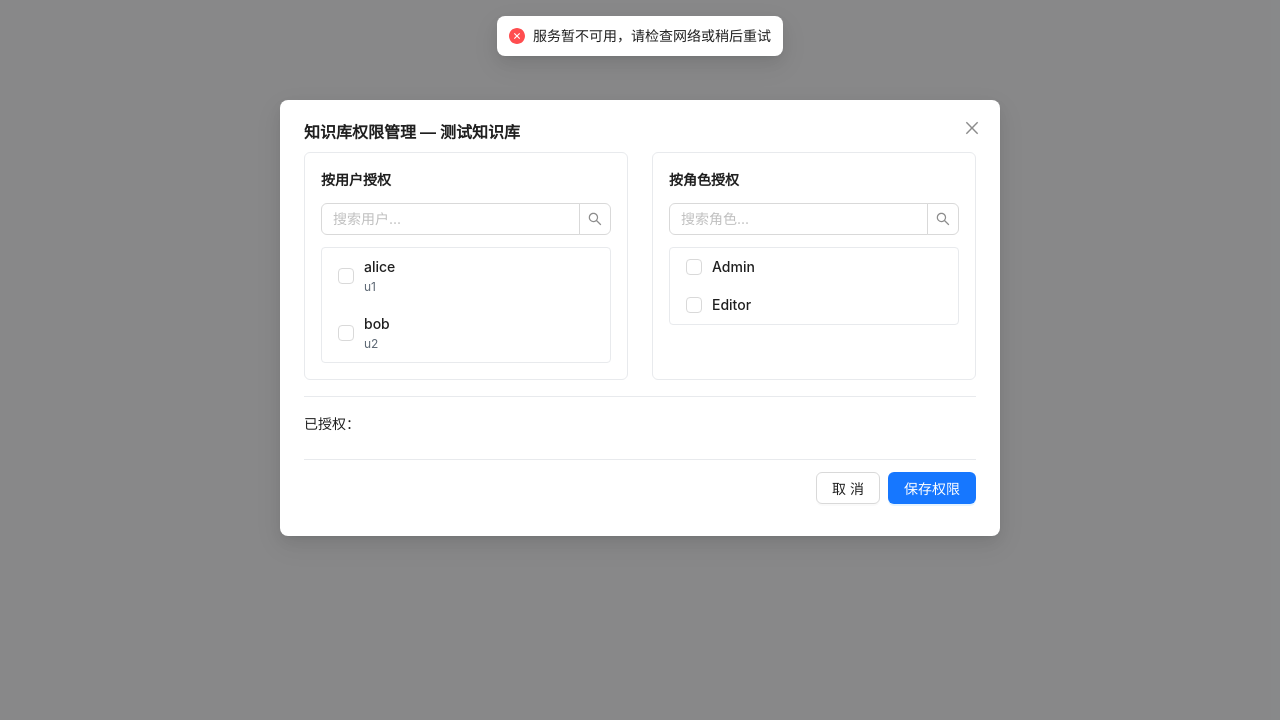
Test: KnowledgeBasePermissionModal › filters users by search keyword
Expected: the text "alice" is shown, [364,258,395,275]
Type "bob" into the search field with placeholder "搜索用户..." at [450, 219], box [321,203,580,235]
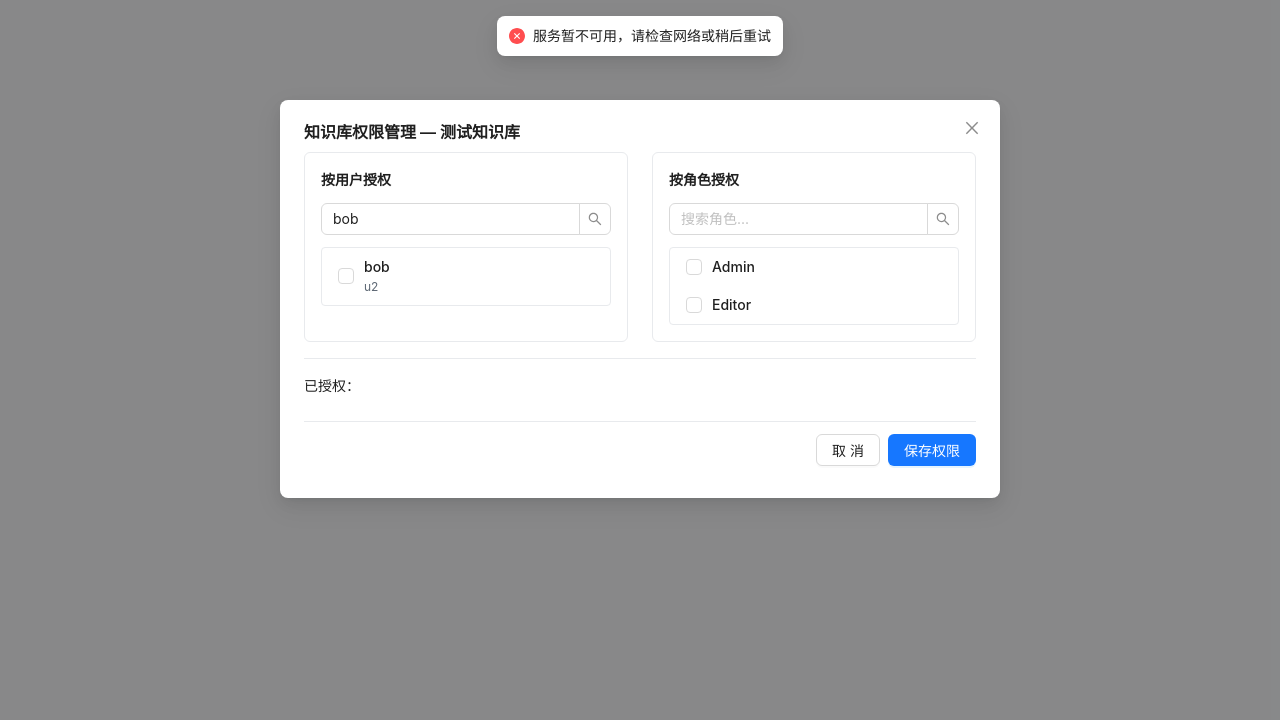
Expected: the text "bob" is shown, [364,258,390,275]
Now the text "alice" is gone
